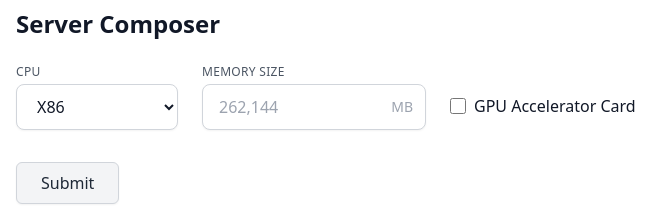
Scenario: ServerComposer › keeps the caret in place when editing mid-number
This screenshot has width=652, height=221.
Type "262144" into the field labelled "Memory Size" at (291, 107), box [203,85,379,129]
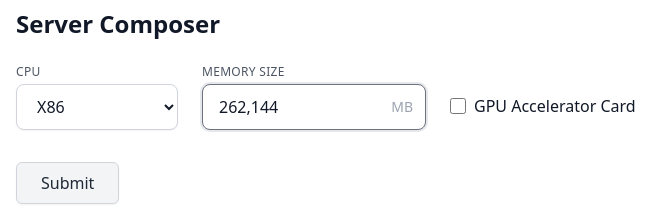
Type keys "9"
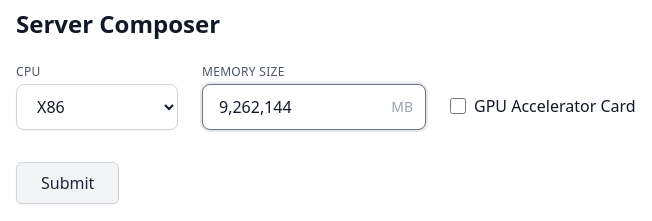
Expected: the field labelled "Memory Size" holds "9,262,144", [203,85,379,129]
